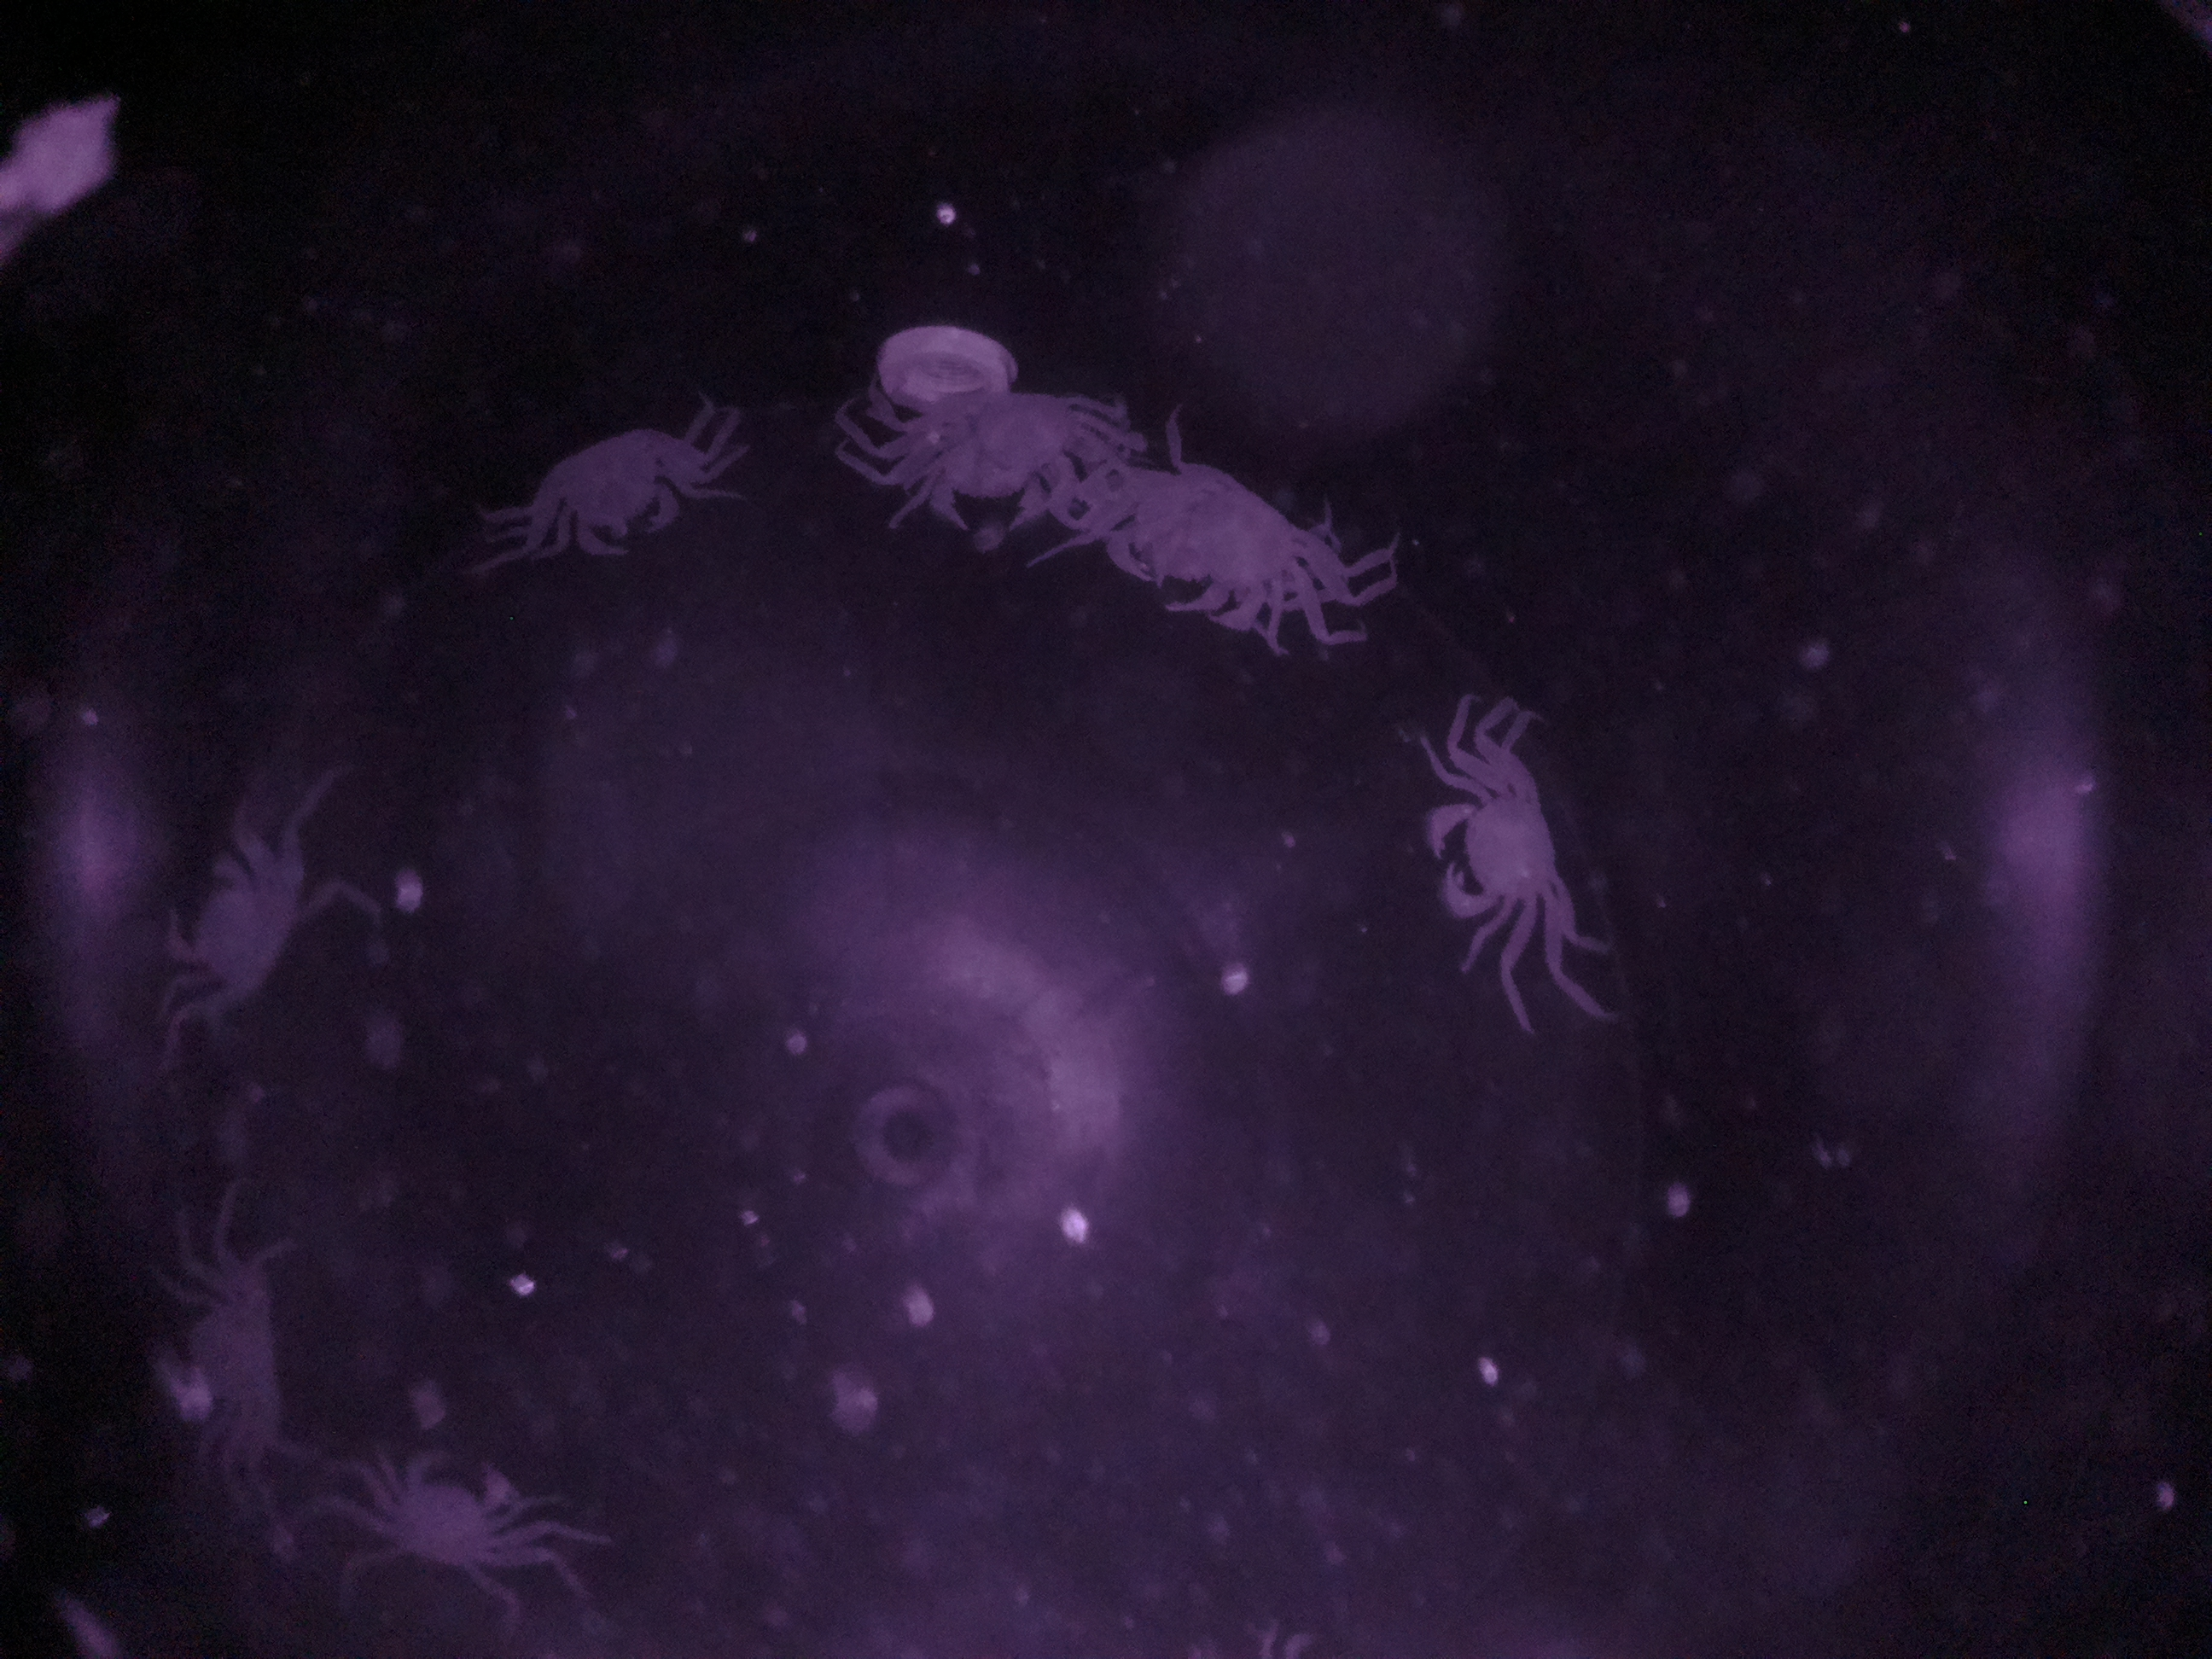Crab: (1407, 732, 1618, 983), (355, 1408, 536, 1596), (516, 415, 709, 575)
